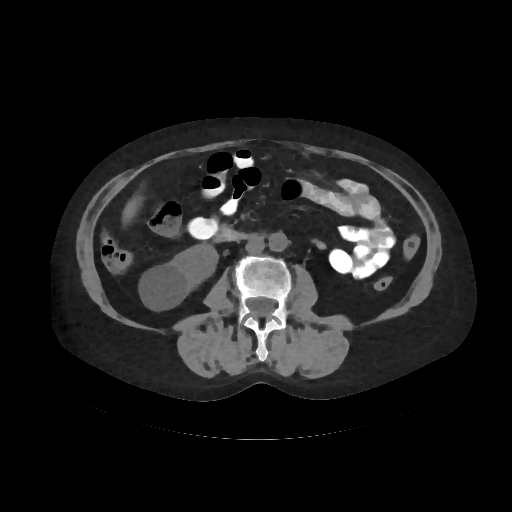Lesion: (136, 262, 191, 315)
